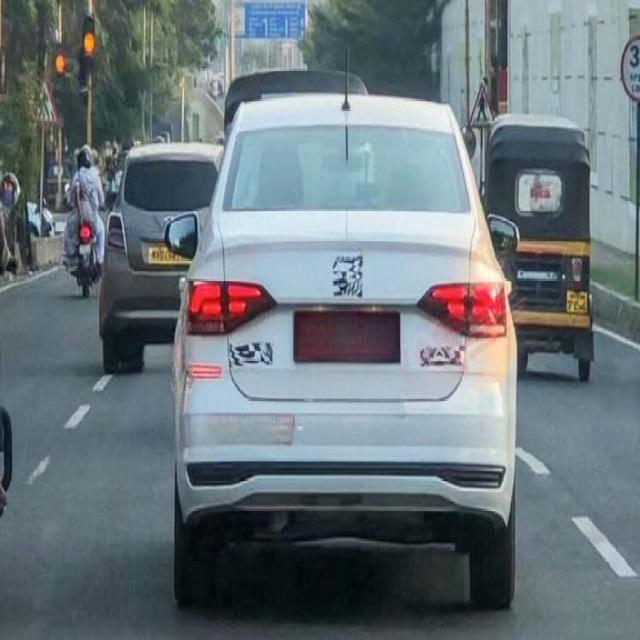autorickshaw: (485, 118, 594, 377)
car: (165, 96, 516, 608), (100, 142, 222, 371)
motorcycle: (64, 144, 105, 296)
